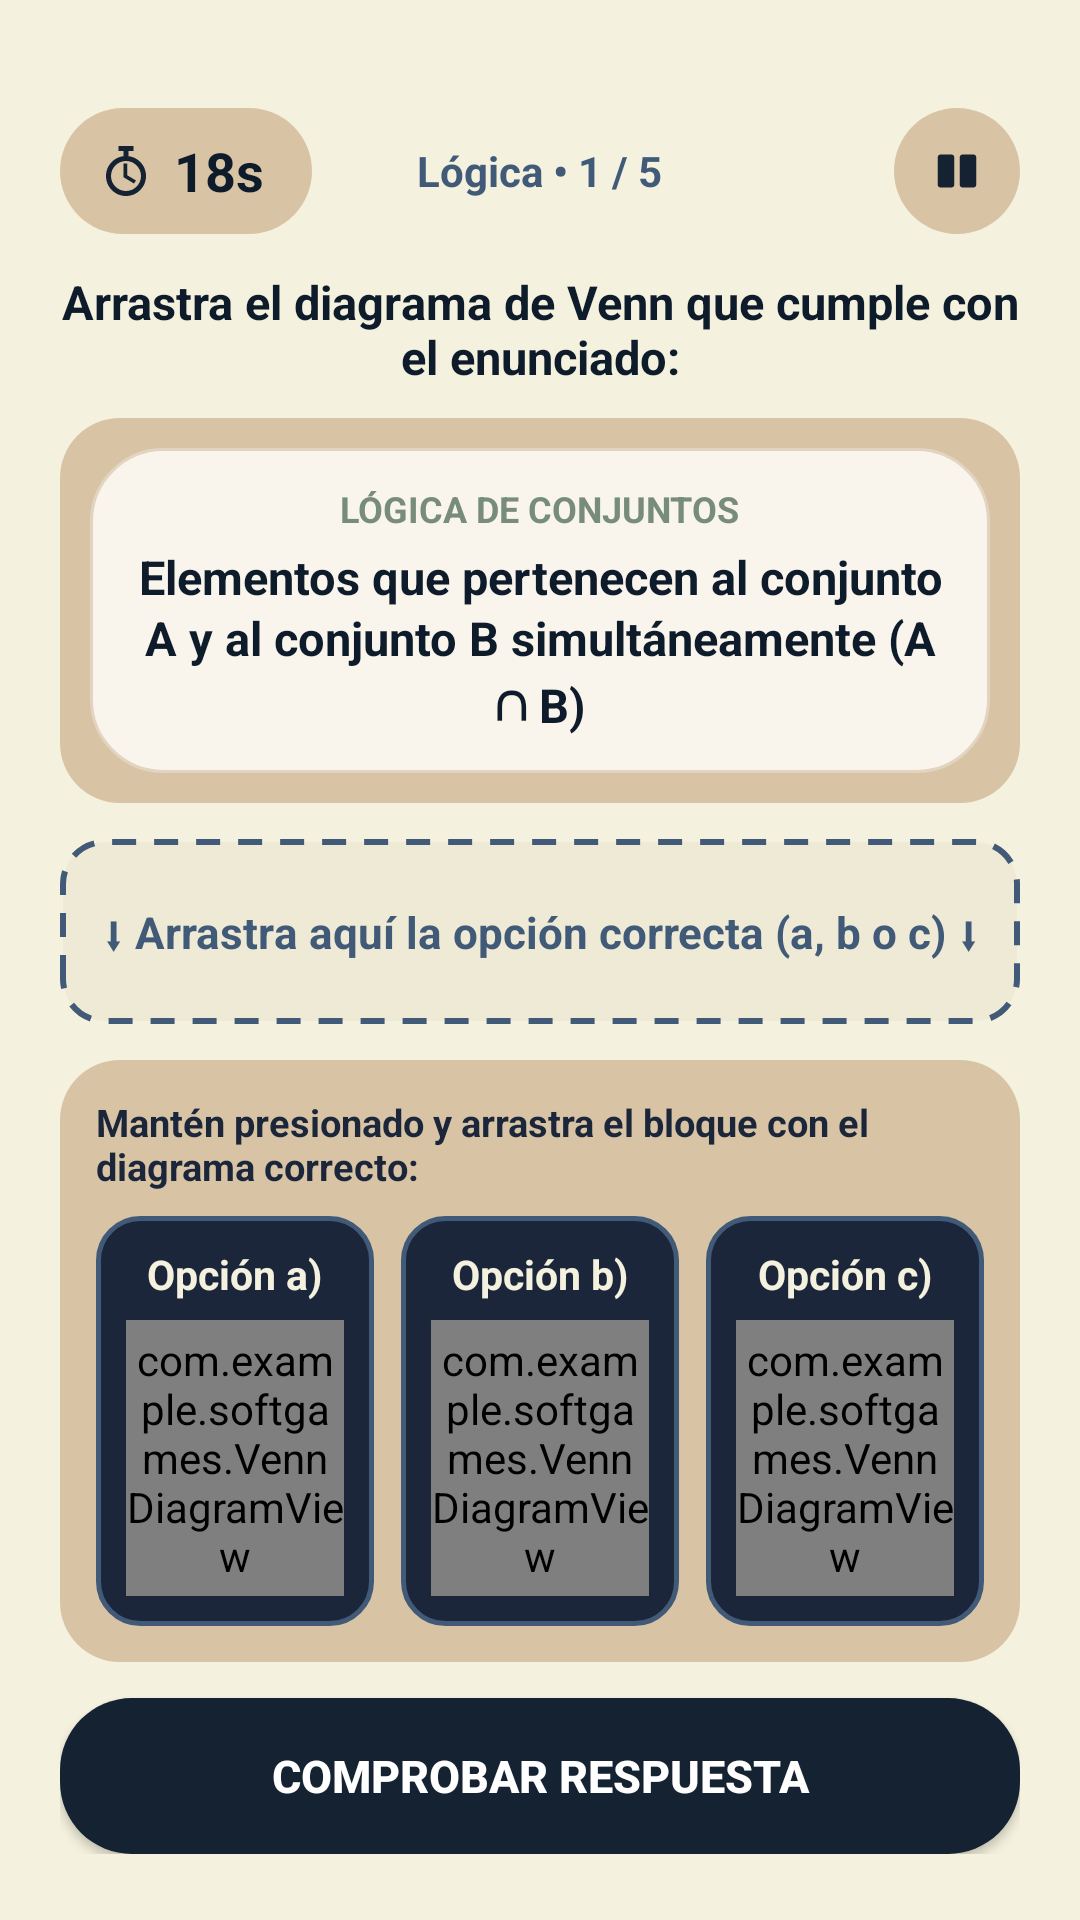

Screen size 1080x1920. Icon name, then its box in pixels as {"left": x1, "top": y1, "right": x2, "bottom": y2}:
Pausa: {"left": 894, "top": 108, "right": 1020, "bottom": 234}
Temporizador: {"left": 106, "top": 146, "right": 146, "bottom": 196}
